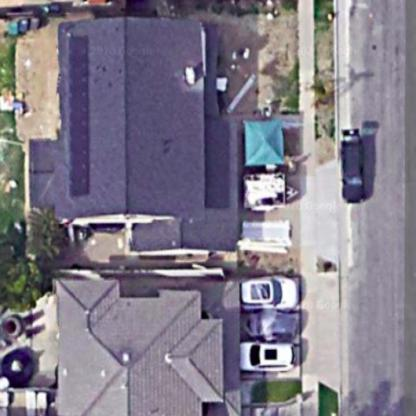car: (331, 121, 373, 204), (236, 274, 306, 315), (239, 337, 305, 373)
solar_panel: (65, 33, 97, 202)
